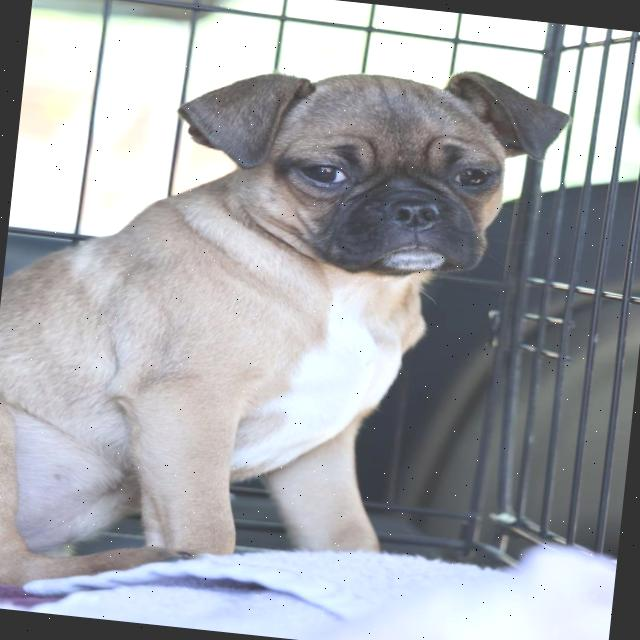pug_dog: (154, 28, 582, 306)
